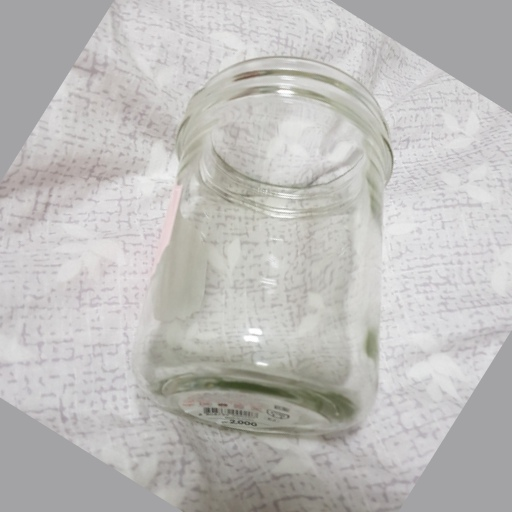Glass_5: (139, 60, 394, 434)
